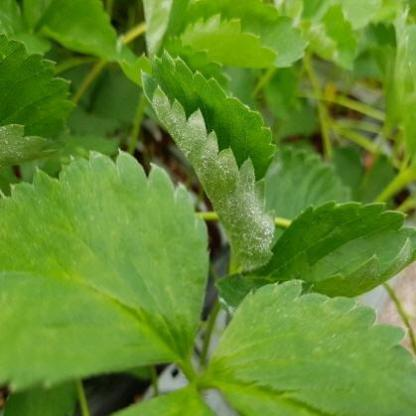Strawberry_Powdery_Mildew_Leaf: (139, 46, 276, 274), (0, 33, 80, 170)
